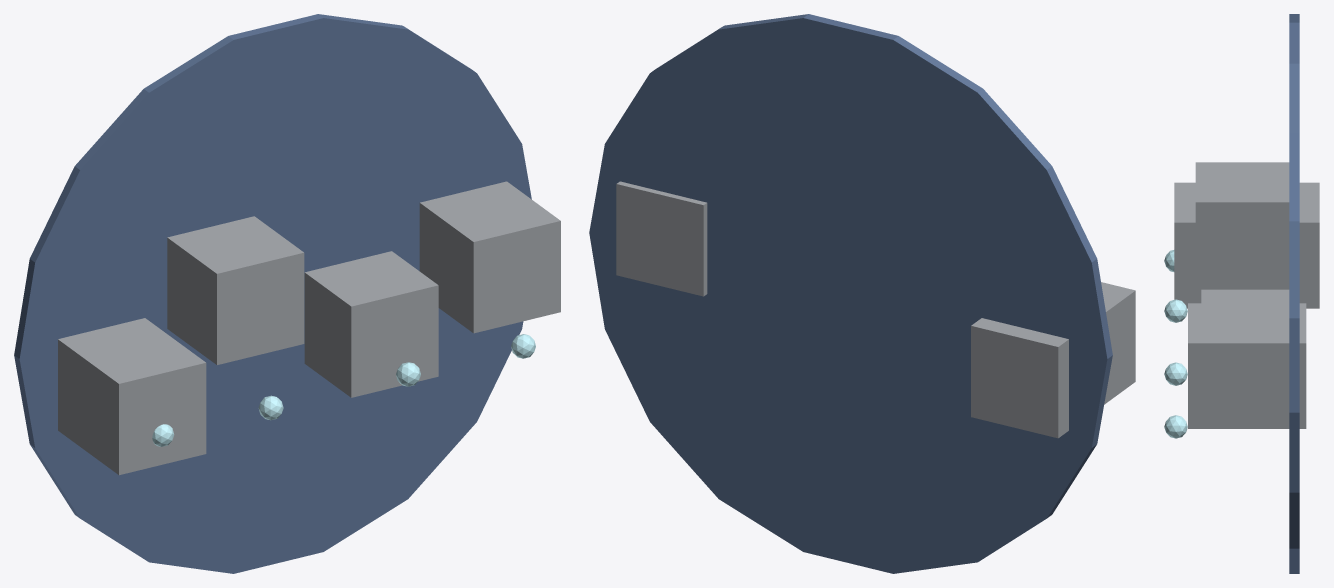
Rendered from 02_local_prop_cluster.glb.
The picture shows the model from 3 angles, left to right: view 1: azimuth 30°, elevation 25°; view 2: azimuth 150°, elevation 25°; view 3: azimuth 270°, elevation 25°; orthographic projection. The views are drawn at different scales.
Parts seen in each view (by area): view 1: scatter_base, tech_crate_0, tech_crate_3, tech_crate_1, tech_crate_2; view 2: scatter_base, tech_crate_0, tech_crate_3; view 3: tech_crate_3, tech_crate_1, scatter_base, tech_crate_0, tech_crate_2, status_light_3, status_light_1, status_light_2.
Boxes of the visible parts, x1,y1,x2,y2 form: scatter_base: (14,14,531,573); tech_crate_0: (58,318,206,475); tech_crate_3: (419,181,560,333); tech_crate_1: (167,216,304,364); tech_crate_2: (304,251,438,397); scatter_base: (589,14,1112,573); tech_crate_0: (971,282,1135,438); tech_crate_3: (616,181,707,296); tech_crate_3: (1188,303,1306,428); tech_crate_1: (1195,162,1289,287); scatter_base: (1289,14,1299,573); tech_crate_0: (1174,182,1319,308); tech_crate_2: (1201,289,1289,303); status_light_3: (1164,415,1187,438); status_light_1: (1164,299,1187,322); status_light_2: (1164,362,1187,385).
Bounding box in the file's own units: 1.9 × 1.87 × 0.5258.
